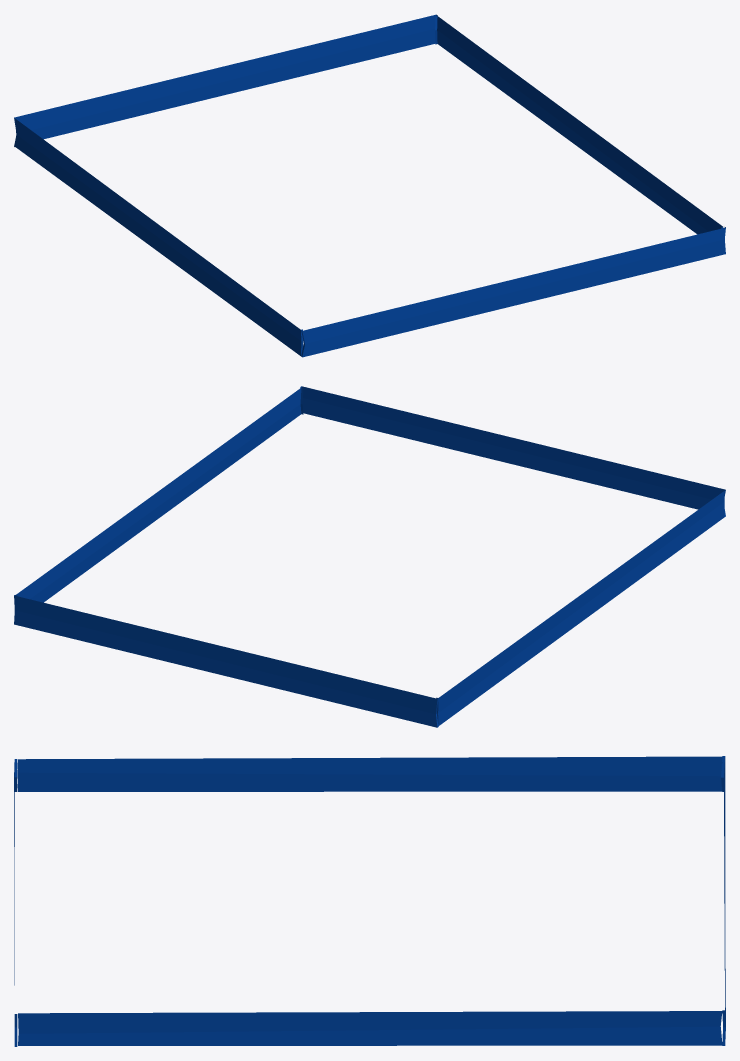
Rendered from shop_boatshop-1.fbx.
3 views of the same model, one above another, from view 1: azimuth 30°, elevation 25°; view 2: azimuth 150°, elevation 25°; view 3: azimuth 270°, elevation 25° (orthographic). The views are drawn at different scales.
Parts seen in each view (by area): view 1: foundation; view 2: foundation; view 3: foundation.
Boxes of the visible parts, <box> form: foundation: <box>14,14,725,357</box>; foundation: <box>14,386,725,727</box>; foundation: <box>14,756,725,1046</box>.
Bounding box in the file's own units: 1042 × 68.14 × 1230.
